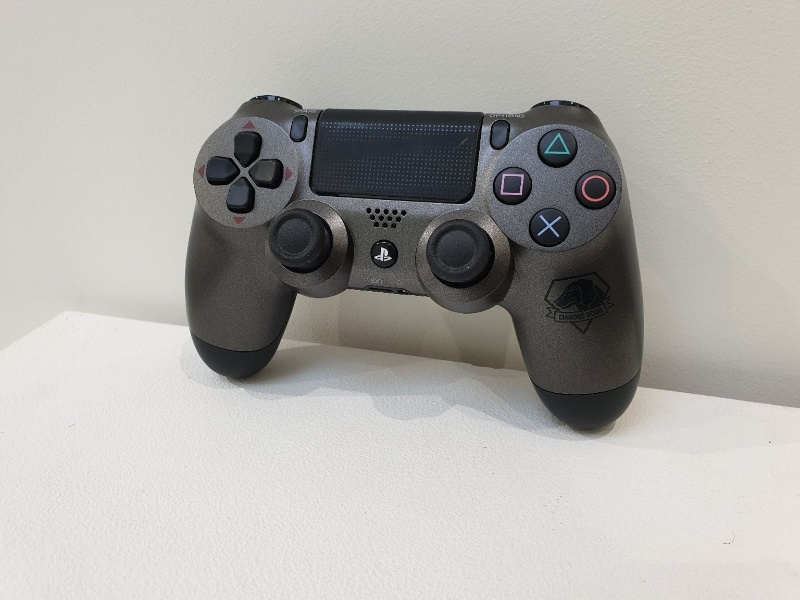ps4 joystick: (184, 93, 651, 435)
